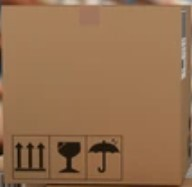stock: (1, 5, 192, 186)
